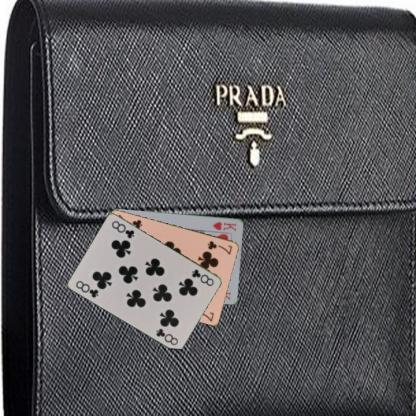7c: (205, 238, 234, 255)
8c: (189, 266, 215, 288), (73, 278, 100, 299)
Kh: (210, 219, 238, 232)
